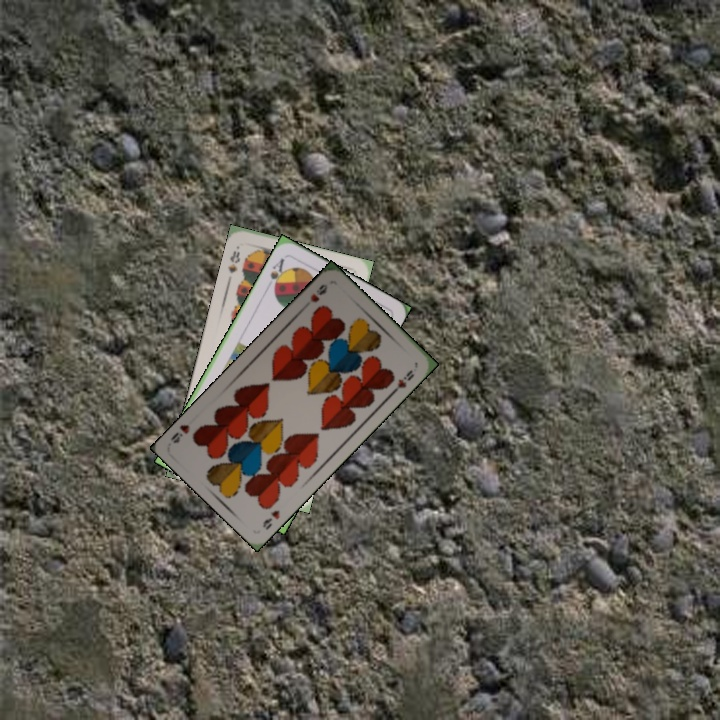H9: (258, 506, 282, 532), (306, 280, 330, 305)
S8: (224, 247, 243, 276)
SA: (266, 254, 288, 293)
